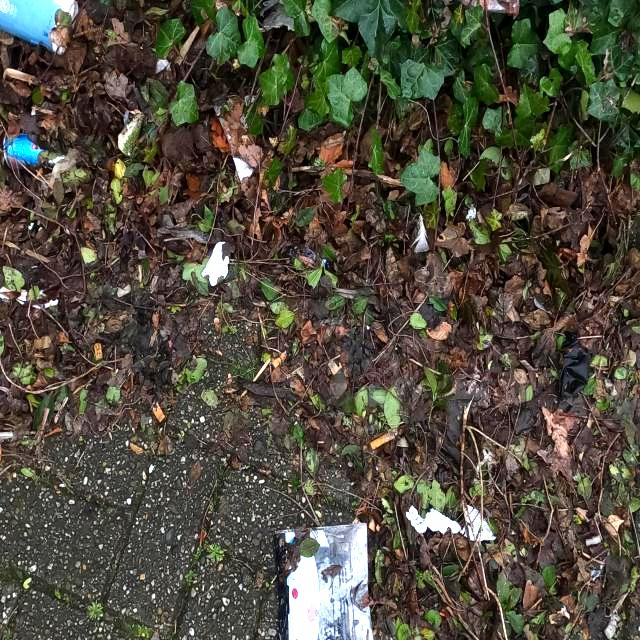Metal: (0, 0, 78, 56), (2, 134, 70, 168)
Plastic: (284, 522, 376, 640)
